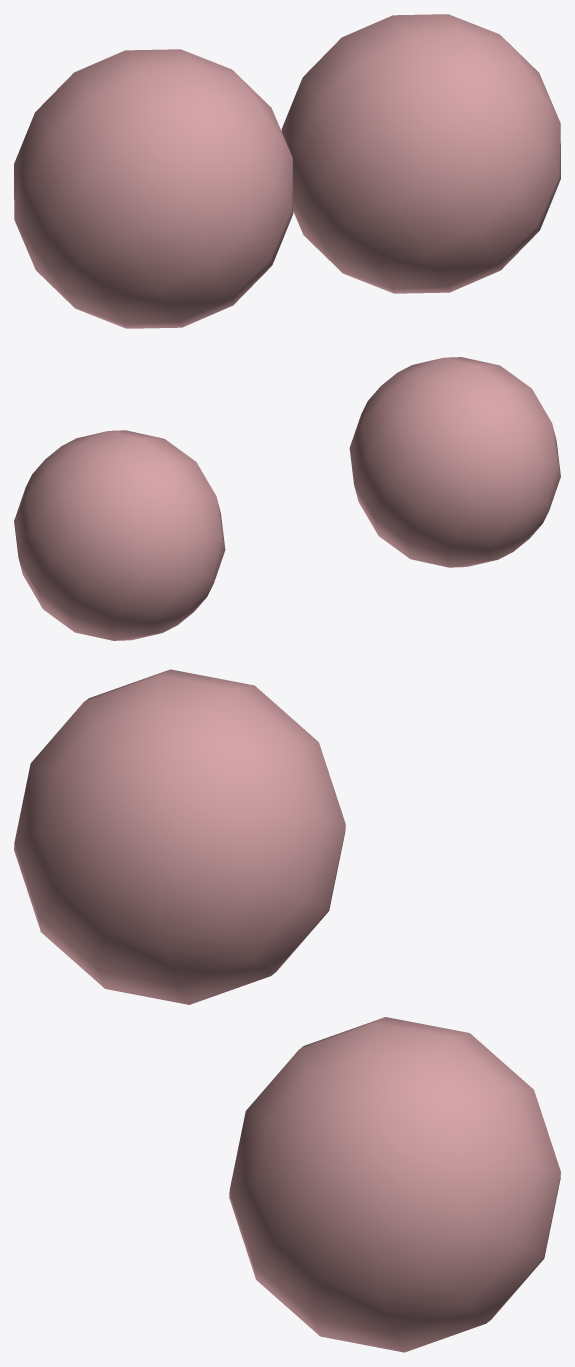
3 renders of one model, top to bottom at view 1: azimuth 30°, elevation 25°; view 2: azimuth 150°, elevation 25°; view 3: azimuth 270°, elevation 25°, orthographic. The views are drawn at different scales.
Parts seen in each view (by area): view 1: ZA_f5ceaf9ca5f9a986; view 2: ZA_f5ceaf9ca5f9a986; view 3: ZA_f5ceaf9ca5f9a986.
Boxes of the visible parts, <box> form: ZA_f5ceaf9ca5f9a986: <box>14,14,560,328</box>; ZA_f5ceaf9ca5f9a986: <box>14,357,560,640</box>; ZA_f5ceaf9ca5f9a986: <box>14,669,560,1352</box>.
Bounding box in the file's own units: 0.0063 × 0.00374 × 0.0042.
